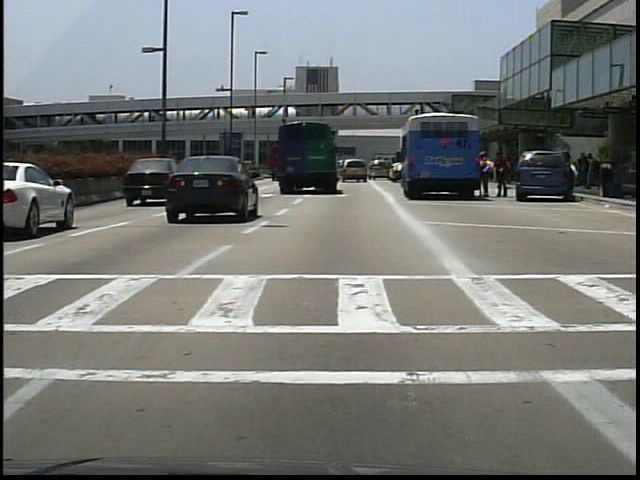person: (478, 152, 493, 198), (495, 154, 510, 199), (568, 161, 582, 201)
